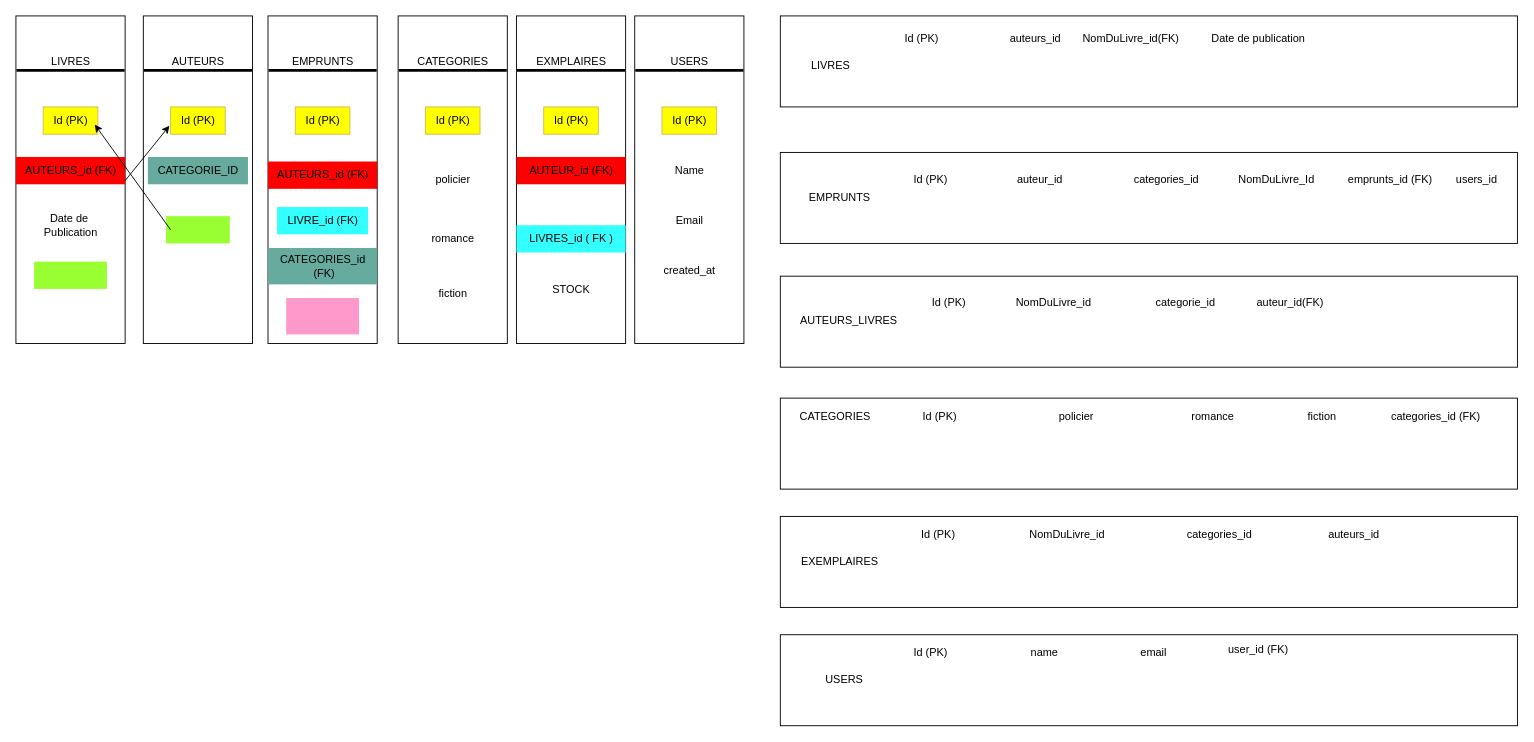
Some shapes in this 1534 by 742 pixel diagram are drawn without their labels. The centre of each missing label's shape, as x and y in pixels:
"LIVRE_id" belongs at pixel 197 229.
"STOCK_id" belongs at pixel 70 274.
"USERS_id (FK)" belongs at pixel 322 316.
